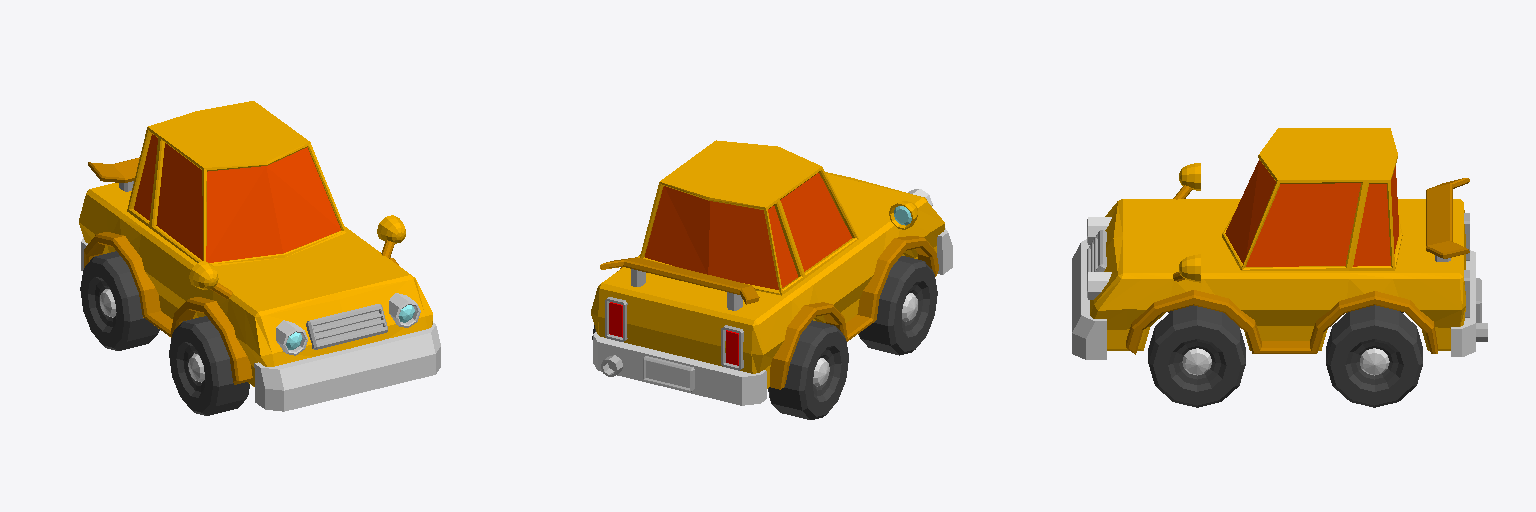
3 renders of one model, left to right at view 1: azimuth 30°, elevation 25°; view 2: azimuth 150°, elevation 25°; view 3: azimuth 270°, elevation 25°, orthographic.
Parts seen in each view (by area): view 1: Japan_Minis:Tuvo_Escape1 polySurface28, Japan_Minis:Tuvo_Escape1 polySurface31, Japan_Minis:Tuvo_Escape1 polySurface33, Japan_Minis:Tuvo_Escape1 polySurface35, Japan_Minis:Tuvo_Escape1 polySurface39, Japan_Minis:Tuvo_Escape1 polySurface30, polySurface46, polySurface48, Japan_Minis:Tuvo_Escape1 polySurface44; view 2: Japan_Minis:Tuvo_Escape1 polySurface28, Japan_Minis:Tuvo_Escape1 polySurface35, Japan_Minis:Tuvo_Escape1 polySurface33, Japan_Minis:Tuvo_Escape1 polySurface39, Japan_Minis:Tuvo_Escape1 polySurface29, Japan_Minis:Tuvo_Escape1 polySurface44, polySurface40, Japan_Minis:Tuvo_Escape1 polySurface26, polySurface48, Japan_Minis:Tuvo_Escape1 polySurface31; view 3: Japan_Minis:Tuvo_Escape1 polySurface28, Japan_Minis:Tuvo_Escape1 polySurface34, Japan_Minis:Tuvo_Escape1 polySurface32, Japan_Minis:Tuvo_Escape1 polySurface38, Japan_Minis:Tuvo_Escape1 polySurface31, Japan_Minis:Tuvo_Escape1 polySurface44, Japan_Minis:Tuvo_Escape1 polySurface29, polySurface48, polySurface46, Japan_Minis:Tuvo_Escape1 polySurface30.
Boxes of the visible parts, x1=… form: Japan_Minis:Tuvo_Escape1 polySurface28: x1=79, y1=101, x2=432, y2=386; Japan_Minis:Tuvo_Escape1 polySurface31: x1=254, y1=323, x2=440, y2=411; Japan_Minis:Tuvo_Escape1 polySurface33: x1=169, y1=316, x2=249, y2=415; Japan_Minis:Tuvo_Escape1 polySurface35: x1=80, y1=251, x2=159, y2=350; Japan_Minis:Tuvo_Escape1 polySurface39: x1=84, y1=232, x2=252, y2=384; Japan_Minis:Tuvo_Escape1 polySurface30: x1=306, y1=304, x2=387, y2=349; polySurface46: x1=276, y1=293, x2=420, y2=355; polySurface48: x1=189, y1=215, x2=405, y2=289; Japan_Minis:Tuvo_Escape1 polySurface44: x1=88, y1=157, x2=139, y2=182; Japan_Minis:Tuvo_Escape1 polySurface28: x1=591, y1=140, x2=944, y2=388; Japan_Minis:Tuvo_Escape1 polySurface35: x1=768, y1=320, x2=848, y2=419; Japan_Minis:Tuvo_Escape1 polySurface33: x1=858, y1=256, x2=937, y2=355; Japan_Minis:Tuvo_Escape1 polySurface39: x1=770, y1=236, x2=938, y2=389; Japan_Minis:Tuvo_Escape1 polySurface29: x1=593, y1=332, x2=766, y2=405; Japan_Minis:Tuvo_Escape1 polySurface44: x1=600, y1=257, x2=759, y2=304; polySurface40: x1=605, y1=297, x2=743, y2=370; Japan_Minis:Tuvo_Escape1 polySurface26: x1=643, y1=356, x2=694, y2=391; polySurface48: x1=889, y1=201, x2=917, y2=229; Japan_Minis:Tuvo_Escape1 polySurface31: x1=937, y1=228, x2=952, y2=274; Japan_Minis:Tuvo_Escape1 polySurface28: x1=1090, y1=128, x2=1465, y2=350; Japan_Minis:Tuvo_Escape1 polySurface34: x1=1326, y1=305, x2=1422, y2=407; Japan_Minis:Tuvo_Escape1 polySurface32: x1=1148, y1=305, x2=1245, y2=407; Japan_Minis:Tuvo_Escape1 polySurface38: x1=1126, y1=290, x2=1437, y2=354; Japan_Minis:Tuvo_Escape1 polySurface31: x1=1072, y1=239, x2=1106, y2=359; Japan_Minis:Tuvo_Escape1 polySurface44: x1=1426, y1=178, x2=1469, y2=258; Japan_Minis:Tuvo_Escape1 polySurface29: x1=1451, y1=250, x2=1475, y2=356; polySurface48: x1=1179, y1=163, x2=1200, y2=282; polySurface46: x1=1087, y1=217, x2=1111, y2=299; Japan_Minis:Tuvo_Escape1 polySurface30: x1=1087, y1=230, x2=1106, y2=273.
Size of the model in its own units: 10.62 by 9.71 by 17.97.
1 materials, 1 textured.